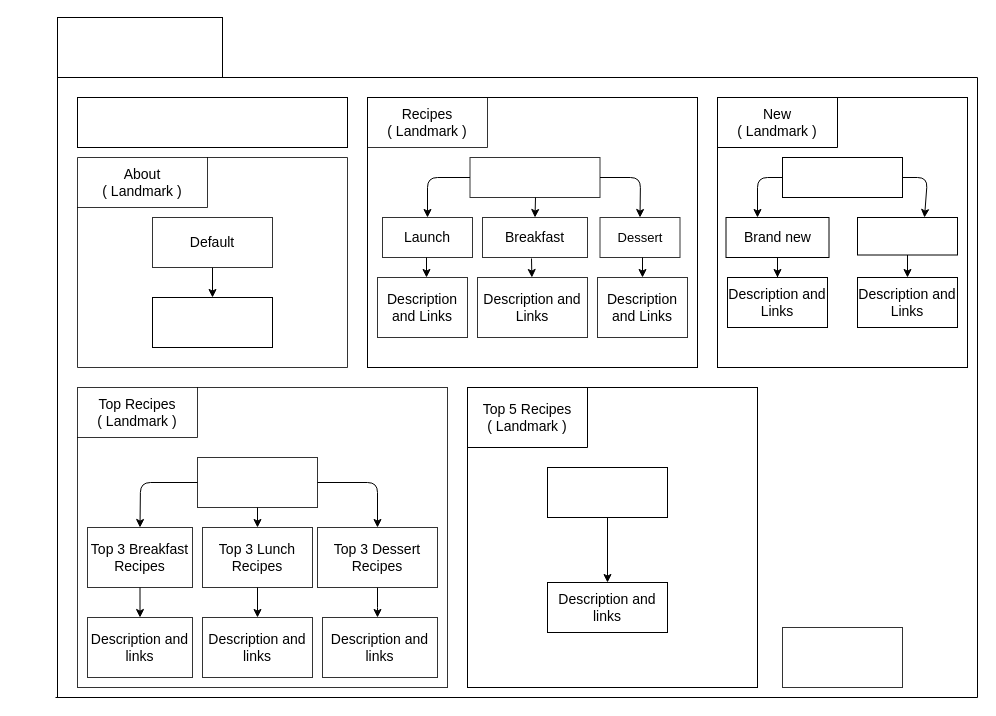
This 996x716 diagram has some shape labels left out. The shapes that lost their labels are listed below. From the top down, each one's box as (x1, y1, x2, y2) in pixels, then its label:
(56, 16, 222, 78): Recipes- home cooking
(76, 96, 348, 148): Recipes home cooking ( Homepage)
(469, 156, 600, 198): Types of Recipes ( Default )
(782, 156, 902, 198): ( Default )
(856, 216, 958, 255): Events special
(152, 296, 272, 348): About us
(196, 456, 318, 508): Types of Recipes
(546, 466, 668, 518): Top 5 Recipes from whole inventory
(782, 626, 902, 688): Contact ( Landmark )
